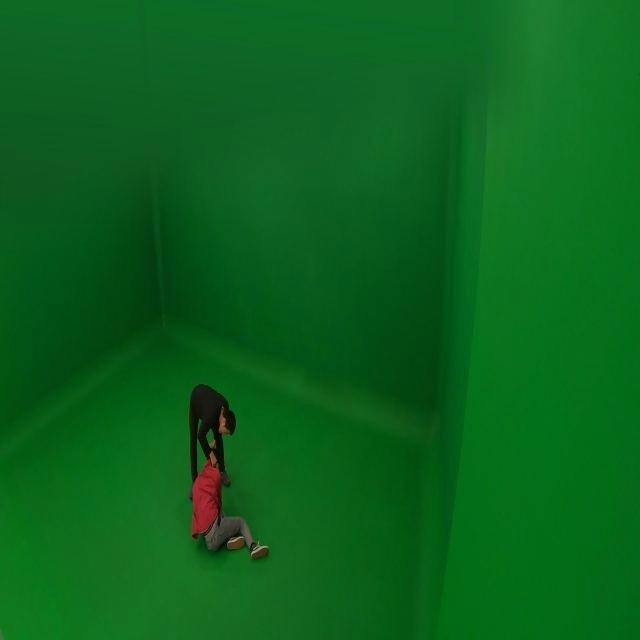fight: (186, 382, 269, 562)
